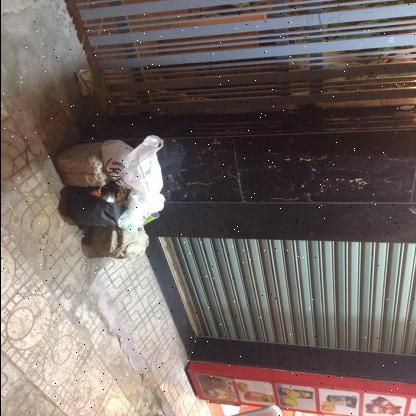cardboard: (142, 212, 158, 226)
plastic: (100, 138, 162, 192), (65, 188, 121, 228), (116, 191, 166, 231)
